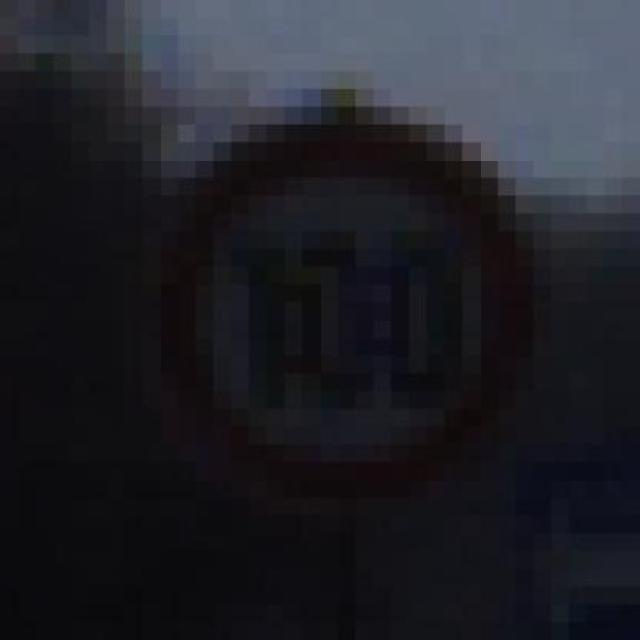forb_speed_over_100: (166, 127, 526, 490)
